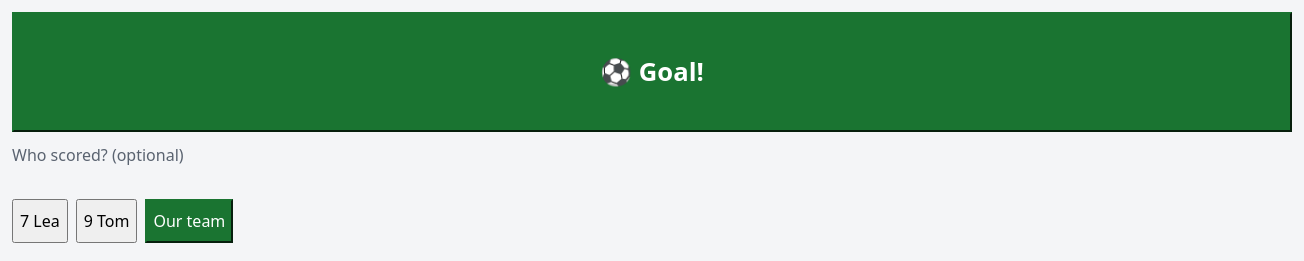
Test case: choosing a scorer from the quick-pick includes their name
Click the button "7 Lea": (40, 221) left=12, top=199, right=68, bottom=243
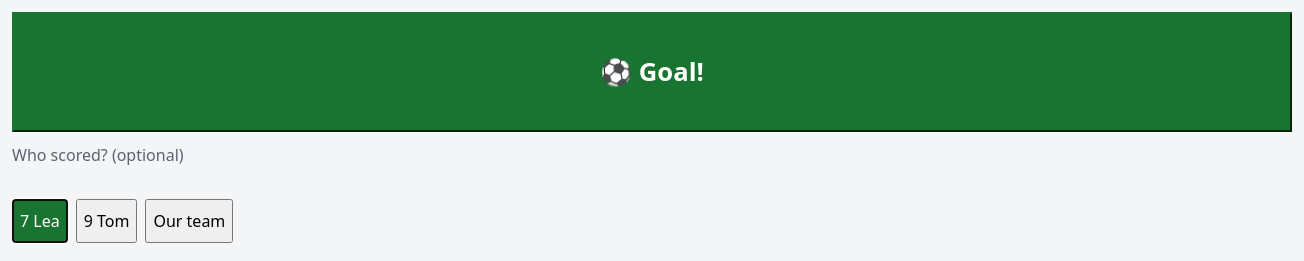
Expected: the button "7 Lea" is pressed, left=12, top=199, right=68, bottom=243
Click the button "⚽ Goal!": (652, 72) left=12, top=12, right=1292, bottom=132
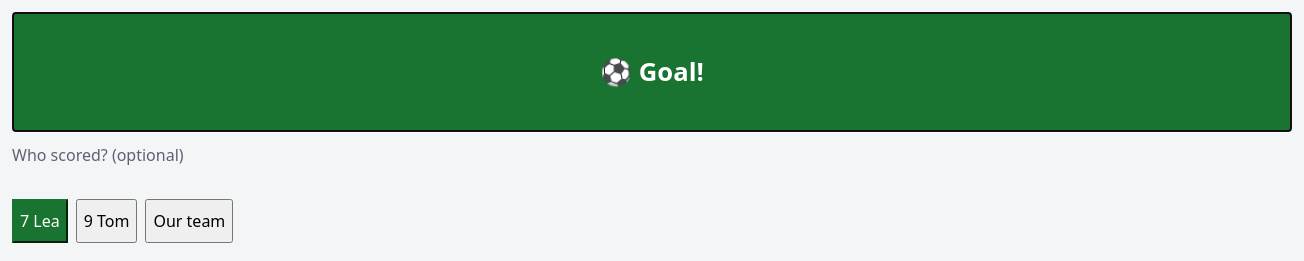
Click the button "7 Lea": (40, 221) left=12, top=199, right=68, bottom=243
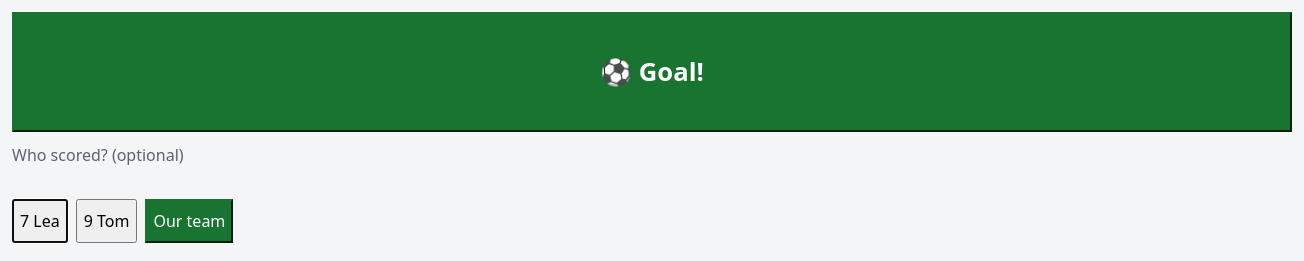
Expected: the button "7 Lea" is not pressed, left=12, top=199, right=68, bottom=243
